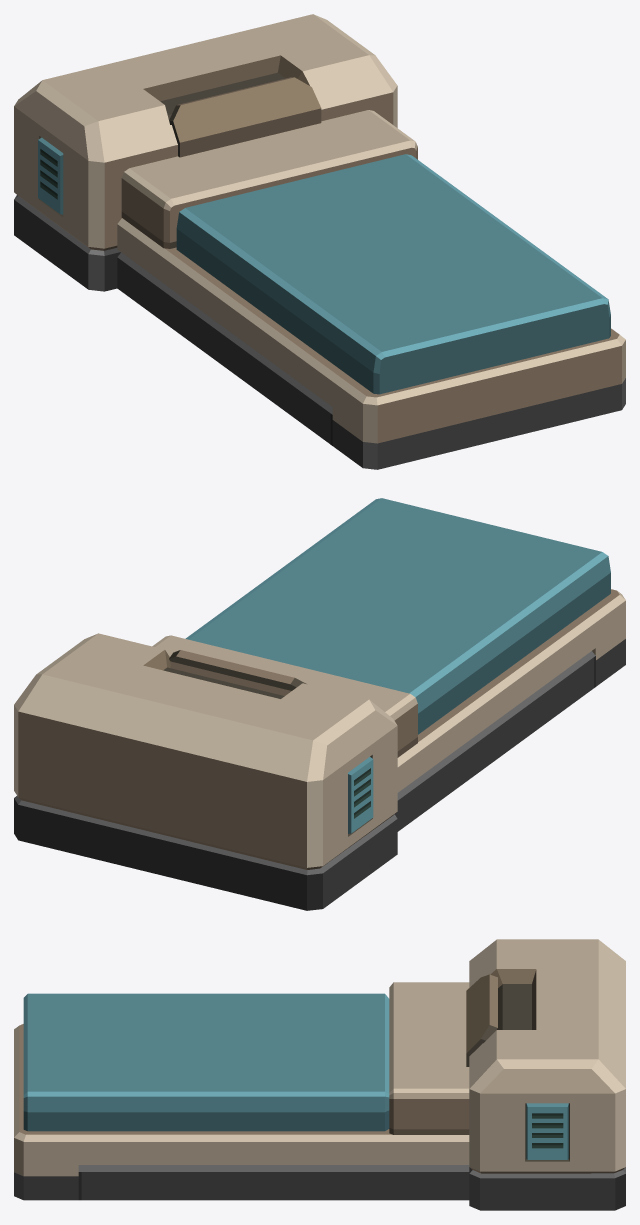
Rendered from CR_Bed.fbx.
The picture shows the model from 3 angles, top to bottom: view 1: azimuth 30°, elevation 25°; view 2: azimuth 150°, elevation 25°; view 3: azimuth 270°, elevation 25°; orthographic projection. The views are drawn at different scales.
Visible parts, largest first — view 1: CR_Bed; view 2: CR_Bed; view 3: CR_Bed.
Part boxes in pixels (x1,y1,x2,y2): CR_Bed: (14,14,625,469); CR_Bed: (14,498,625,910); CR_Bed: (14,939,625,1210).
Bounding box in the file's own units: 1.64 × 0.7851 × 3.05.
